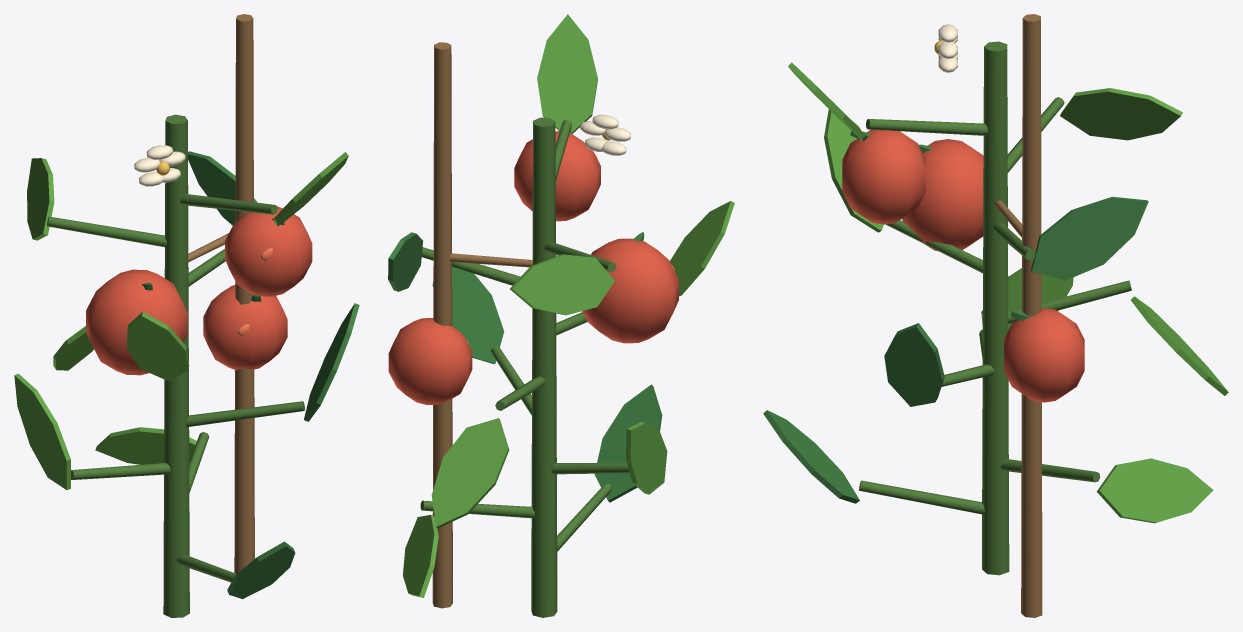
Rendered from tomato-harvest.glb.
3 views of the same model, side by side, from view 1: azimuth 30°, elevation 25°; view 2: azimuth 150°, elevation 25°; view 3: azimuth 270°, elevation 25° (orthographic). The views are drawn at different scales.
Parts seen in each view (by area): view 1: tomato_harvest_tomato, tomato_harvest_stem, tomato_harvest_leaf, tomato_harvest_stake, tomato_harvest_leafDark, tomato_harvest_flower; view 2: tomato_harvest_leaf, tomato_harvest_stem, tomato_harvest_tomato, tomato_harvest_stake, tomato_harvest_leafDark, tomato_harvest_flower; view 3: tomato_harvest_stem, tomato_harvest_tomato, tomato_harvest_leaf, tomato_harvest_leafDark, tomato_harvest_stake, tomato_harvest_flower.
Boxes of the visible parts, box(x1,y1,x2,y2) form: tomato_harvest_tomato: box(86, 206, 312, 375); tomato_harvest_stem: box(47, 114, 304, 617); tomato_harvest_leaf: box(14, 152, 348, 489); tomato_harvest_stake: box(188, 14, 254, 573); tomato_harvest_leafDark: box(142, 151, 359, 599); tomato_harvest_flower: box(134, 145, 185, 186); tomato_harvest_leaf: box(403, 14, 734, 597); tomato_harvest_stem: box(420, 117, 629, 617); tomato_harvest_tomato: box(388, 131, 678, 404); tomato_harvest_stake: box(432, 42, 532, 608); tomato_harvest_leafDark: box(388, 128, 662, 502); tomato_harvest_flower: box(580, 114, 630, 155); tomato_harvest_stem: box(859, 41, 1131, 575); tomato_harvest_tomato: box(842, 129, 1084, 402); tomato_harvest_leaf: box(788, 62, 1228, 523); tomato_harvest_leafDark: box(763, 131, 1148, 503); tomato_harvest_stake: box(995, 14, 1042, 617); tomato_harvest_flower: box(938, 24, 957, 72).
Bounding box in the file's own units: 0.4132 × 0.82 × 0.5814.
